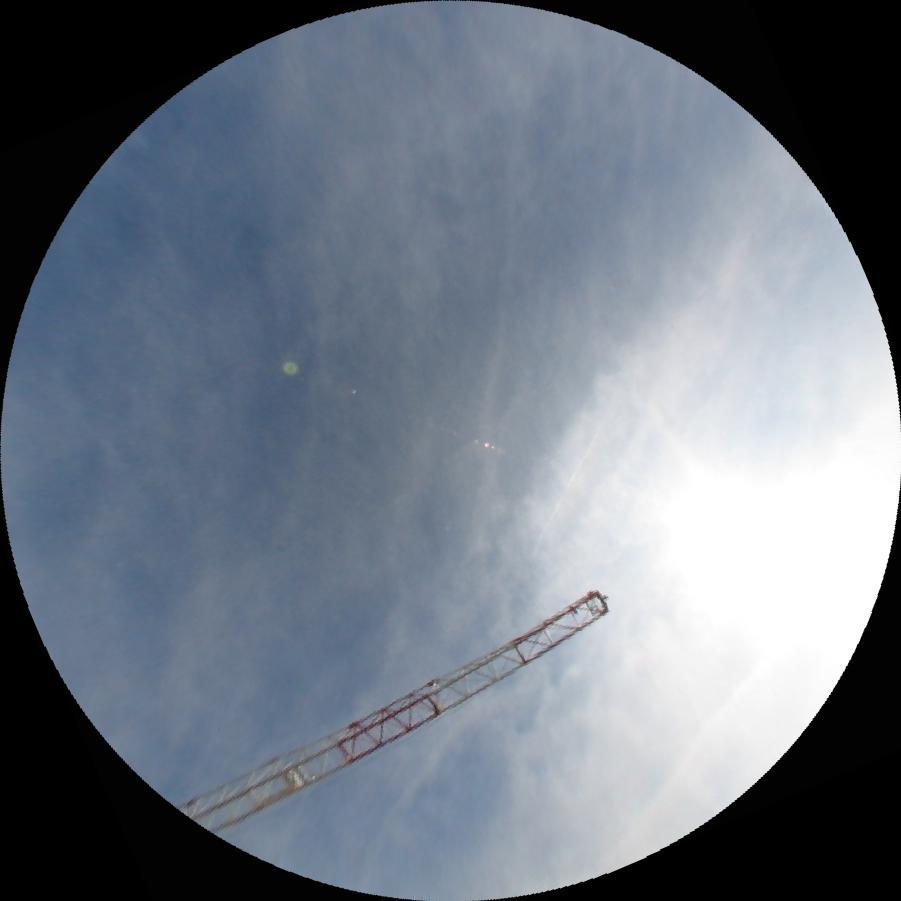contrail young: (528, 427, 602, 556)
